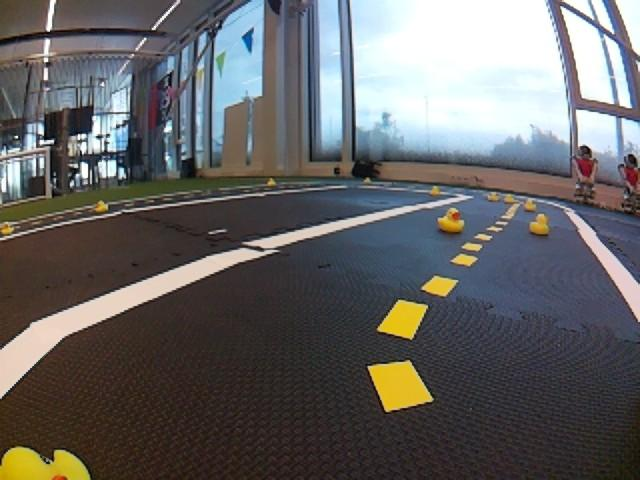Duckies: (0, 448, 89, 480), (437, 208, 465, 233), (529, 214, 549, 235), (95, 200, 108, 212), (1, 222, 13, 235), (524, 200, 536, 211), (504, 194, 515, 204), (430, 186, 441, 195), (488, 193, 499, 201), (267, 178, 276, 186), (364, 178, 372, 183)
